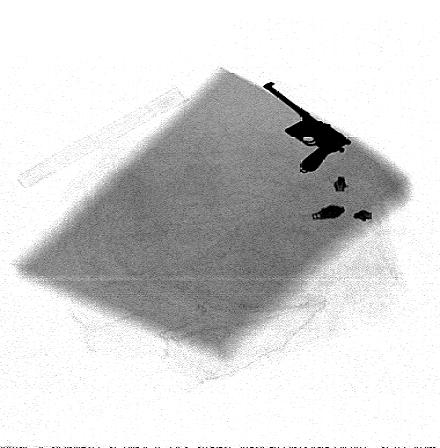Gun: (260, 80, 355, 173)
